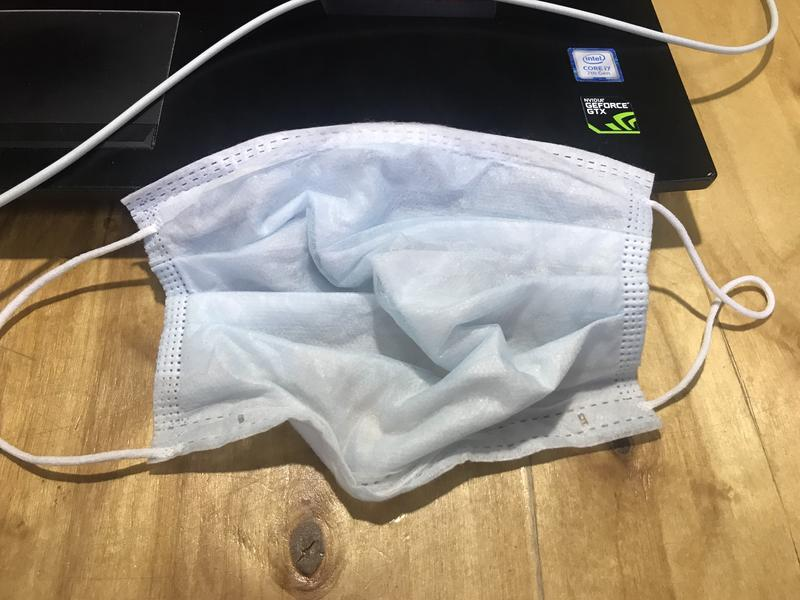medical_mask: (1, 122, 775, 501)
